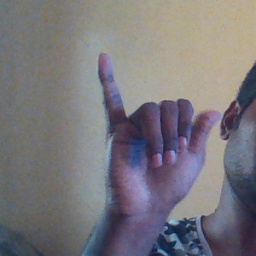J: (89, 56, 223, 203)
